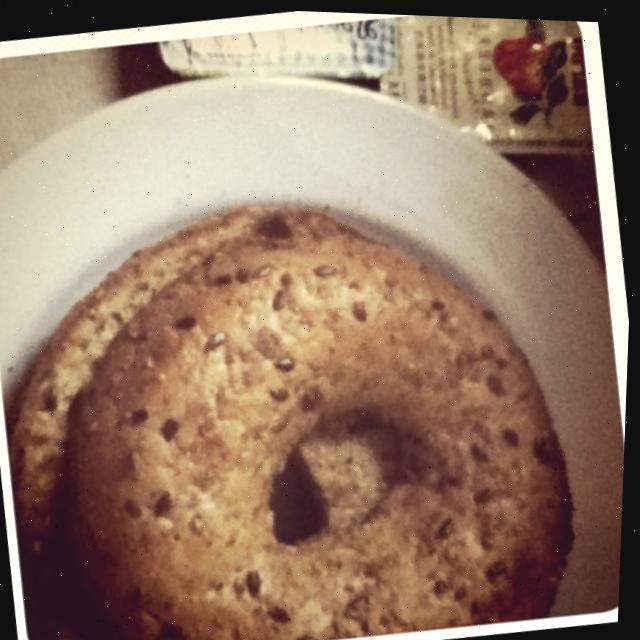面包点心: (0, 137, 620, 640)
